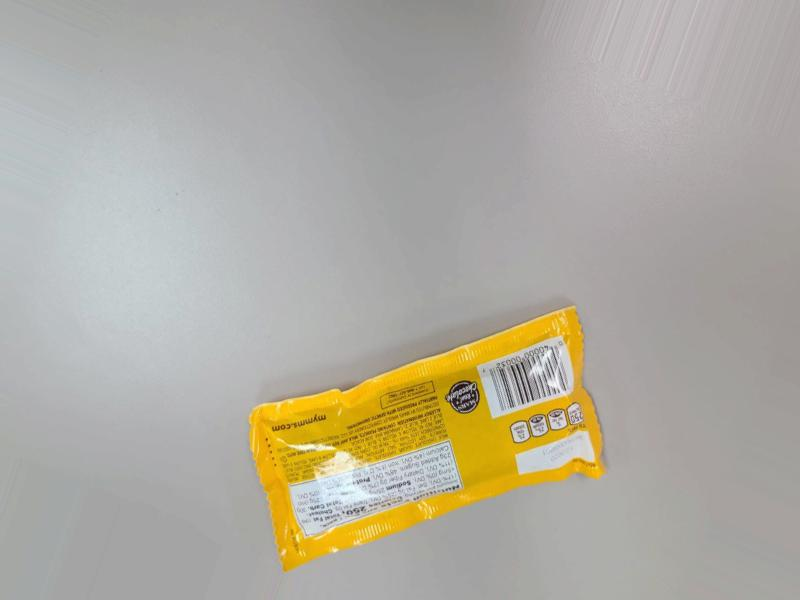m&m: (253, 296, 595, 570)
